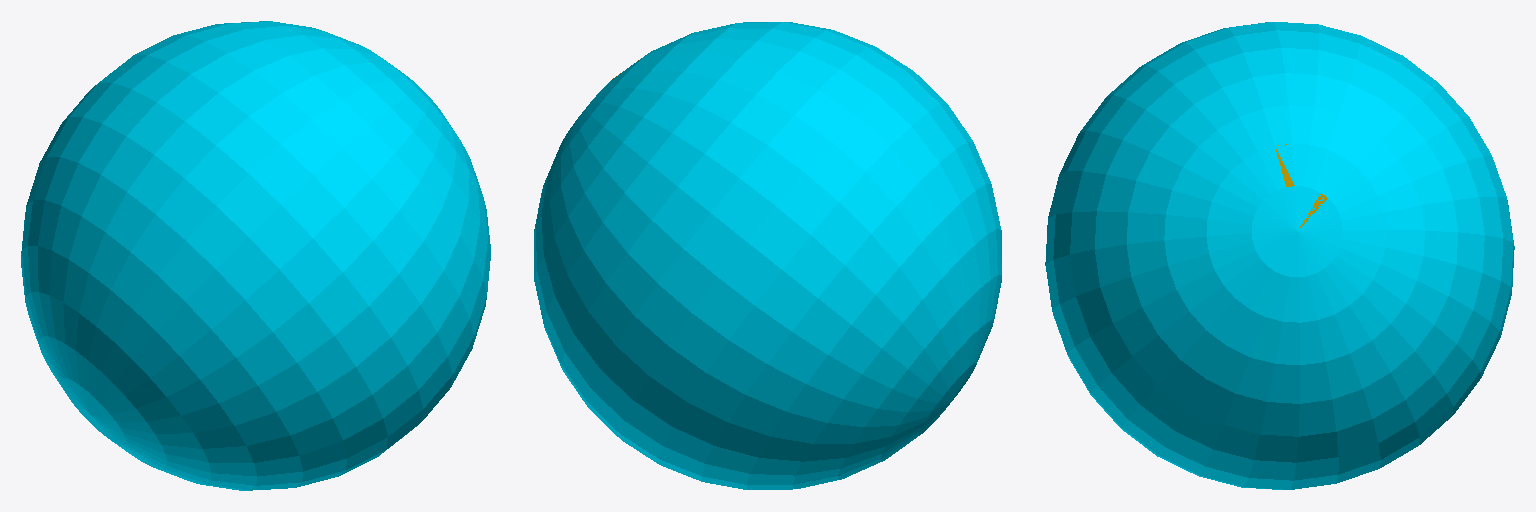
The model's file is Ring.obj.
The picture shows the model from 3 angles: view 1: azimuth 30°, elevation 25°; view 2: azimuth 150°, elevation 25°; view 3: azimuth 270°, elevation 25°; orthographic projection.
Visible parts, largest first — view 1: Sphere001; view 2: Sphere001; view 3: Sphere001.
Part boxes in pixels (x1,y1,x2,y2): Sphere001: (21,21,490,490); Sphere001: (534,22,1001,489); Sphere001: (1045,22,1514,489).
Size of the model in its own units: 6737 by 6736 by 6718.